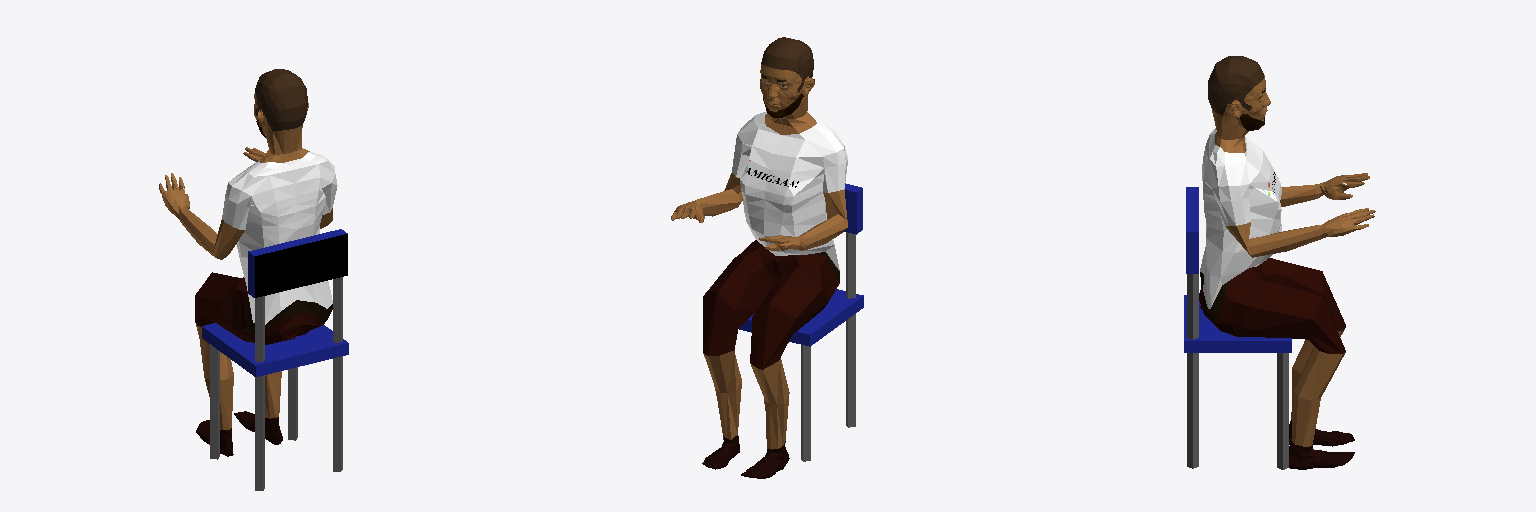
3 renders of one model, left to right at view 1: azimuth 30°, elevation 25°; view 2: azimuth 150°, elevation 25°; view 3: azimuth 270°, elevation 25°, orthographic.
Visible parts, largest first — view 1: Cube, Cube.001_Cube.002; view 2: Cube, Cube.001_Cube.002; view 3: Cube, Cube.001_Cube.002.
Boxes of the visible parts, <box> form: Cube: <box>159,69,337,456</box>; Cube.001_Cube.002: <box>202,229,348,490</box>; Cube: <box>671,37,847,478</box>; Cube.001_Cube.002: <box>723,183,863,461</box>; Cube: <box>1199,56,1375,469</box>; Cube.001_Cube.002: <box>1184,187,1291,469</box>.
Bounding box in the file's own units: 24.88 × 76.39 × 33.27.
15 materials, 1 textured.